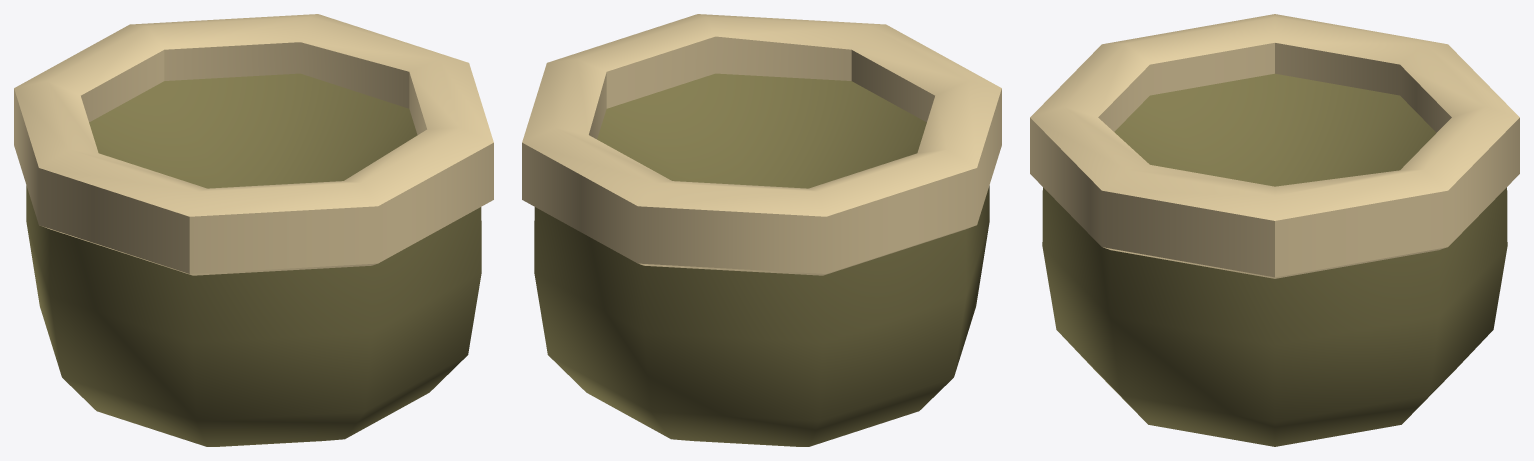
Rendered from Basket.fbx.
The picture shows the model from 3 angles, left to right: view 1: azimuth 30°, elevation 25°; view 2: azimuth 150°, elevation 25°; view 3: azimuth 270°, elevation 25°; orthographic projection.
Visible parts, largest first — view 1: Basket; view 2: Basket; view 3: Basket.
Part boxes in pixels (x1,y1,x2,y2): Basket: (14,14,493,446); Basket: (522,14,1001,446); Basket: (1030,14,1519,446).
Bounding box in the file's own units: 57.28 × 37.71 × 57.28.
